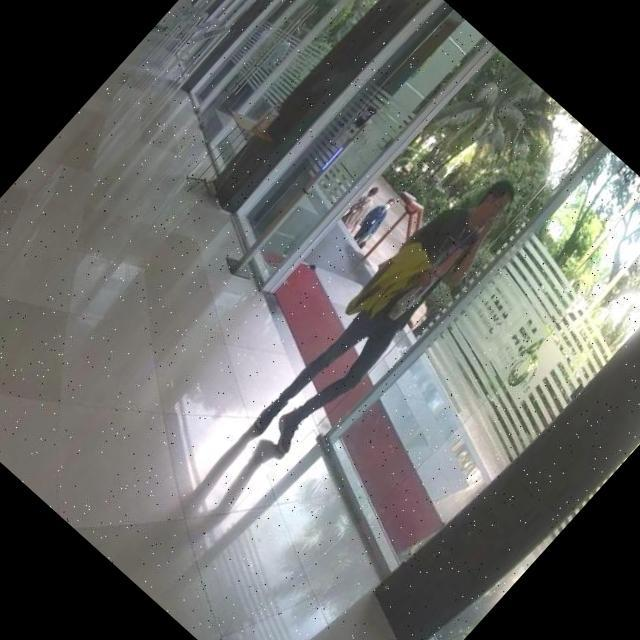person: (242, 156, 530, 464), (344, 191, 399, 251), (338, 183, 384, 232)
